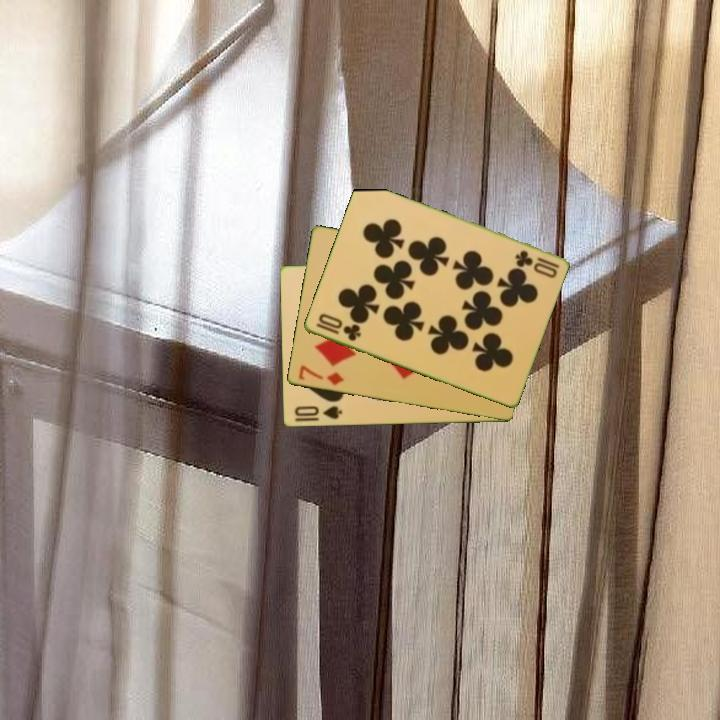10c: (312, 310, 364, 344), (511, 247, 561, 280)
10s: (291, 403, 344, 422)
7d: (295, 362, 347, 389)
